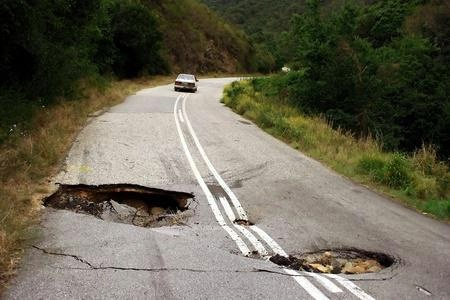pothole: (37, 177, 196, 228), (267, 243, 400, 276), (230, 215, 258, 226)
